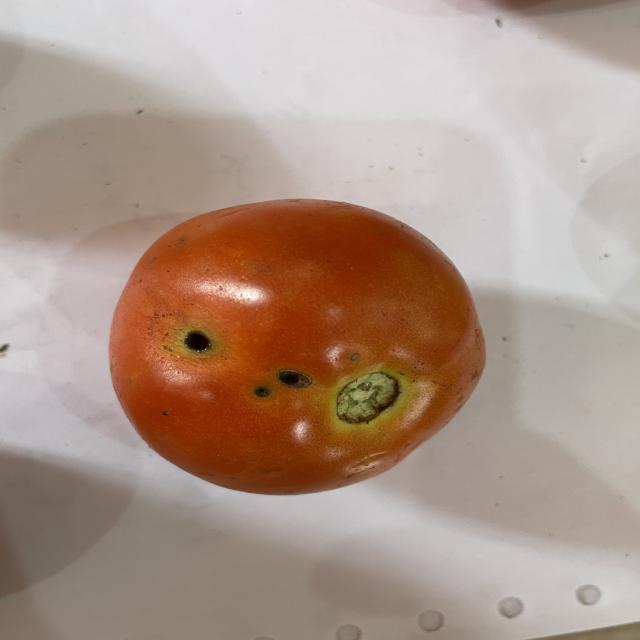fruitworm_bore: (242, 360, 311, 404), (177, 328, 216, 352)
